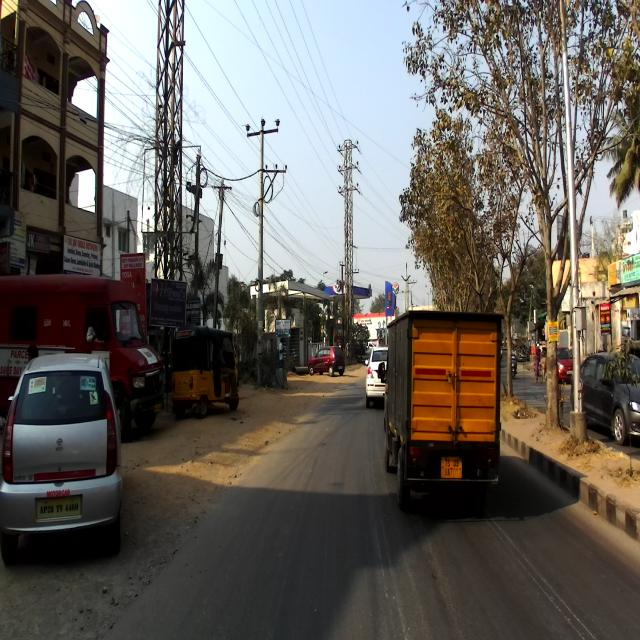auto ahead at: (176, 324, 238, 418)
car ahead at: (0, 350, 124, 555)
truck ahead at: (377, 305, 506, 511)
